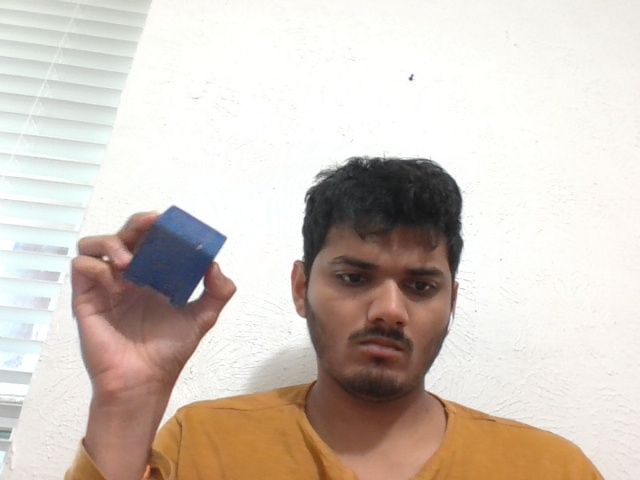BlueBlock: (124, 203, 226, 306)
